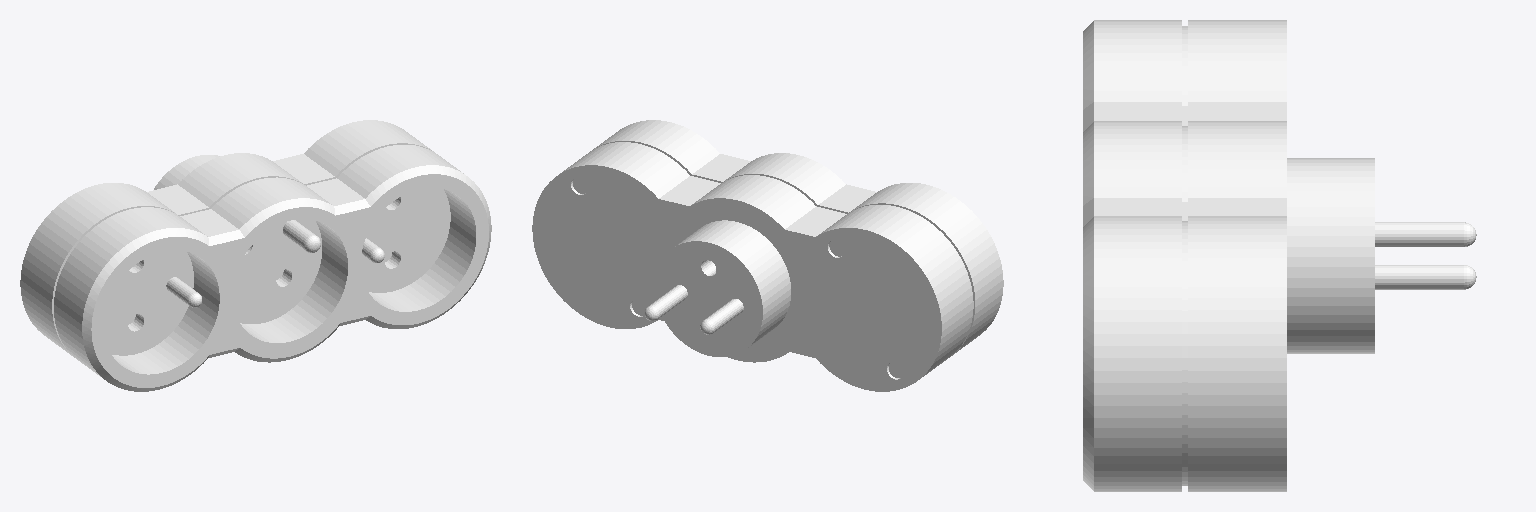
The robot description file, URDF, robot "obj_000023":
<?xml version="1.0" ?>
<robot name="obj_000023">
   <link name="base_link">
      <visual>
         <geometry>
            <mesh filename="package://urdf/tless/obj_23.obj" scale="1.0 1.0 1.0"/>
         </geometry>
         <material name="mat_part0">
            <color rgba="1.0 1.0 1.0 1.0"/>
         </material>
      </visual>
      <collision>
         <geometry>
            <mesh filename="package://urdf/tless/obj_23.obj" scale="1.0 1.0 1.0"/>
         </geometry>
      </collision>
      <inertial>
         <origin rpy="0 0 0" xyz="0.0 0.0 0.0"/>
         <mass value="0.1"/>
         <inertia ixx="1" ixy="0" ixz="0" iyy="1" iyz="0" izz="1"/>
      </inertial>
   </link>
</robot>

--- Facts derived from the render (not from the file) ---
Views: 3 orthographic renders of the robot side by side, from view 1: azimuth 30°, elevation 25°; view 2: azimuth 150°, elevation 25°; view 3: azimuth 270°, elevation 25°.
Model obj_000023 with 1 links and 0 joints (none), rooted at base_link, posed every joint at zero.
Links seen in each view (by area): view 1: base_link; view 2: base_link; view 3: base_link.
Boxes of the visible links, bbox=[...] form: base_link: bbox=[20, 120, 491, 391]; base_link: bbox=[532, 120, 1003, 391]; base_link: bbox=[1083, 20, 1476, 491].
Bounding box of the posed robot: 138 × 73.5 × 52.07 m (x, y, z).
Meshes: 1 distinct files referenced, 1 mesh visuals loaded (1 OBJ).
